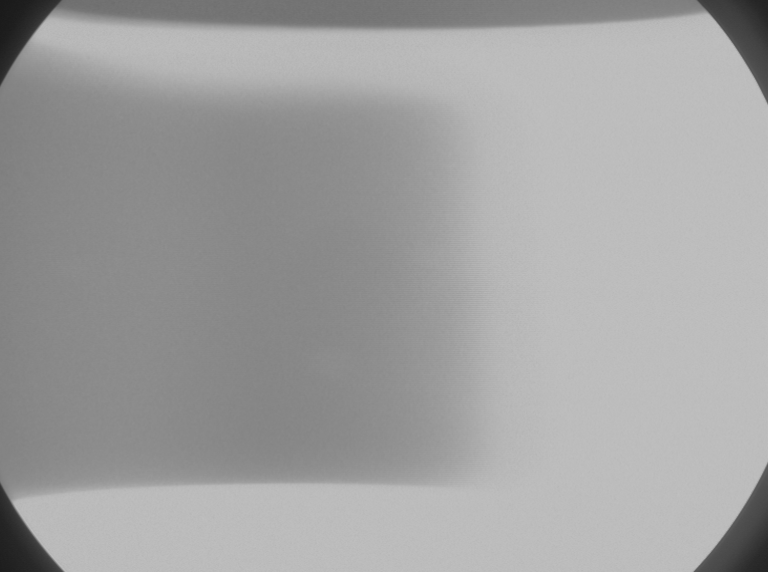defect: (316, 341, 353, 383)
